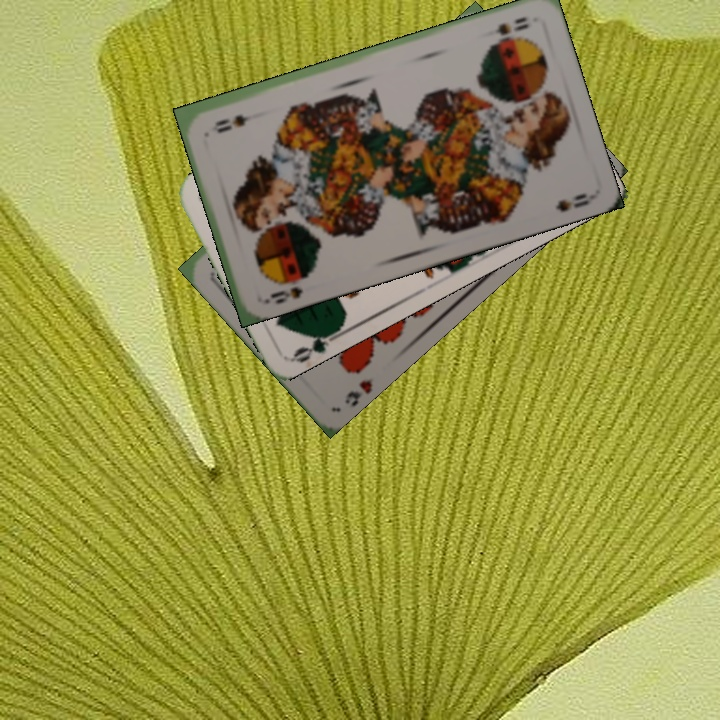GO: (289, 326, 345, 365)
H9: (340, 376, 376, 407)
SO: (260, 268, 313, 307), (492, 12, 532, 38)
